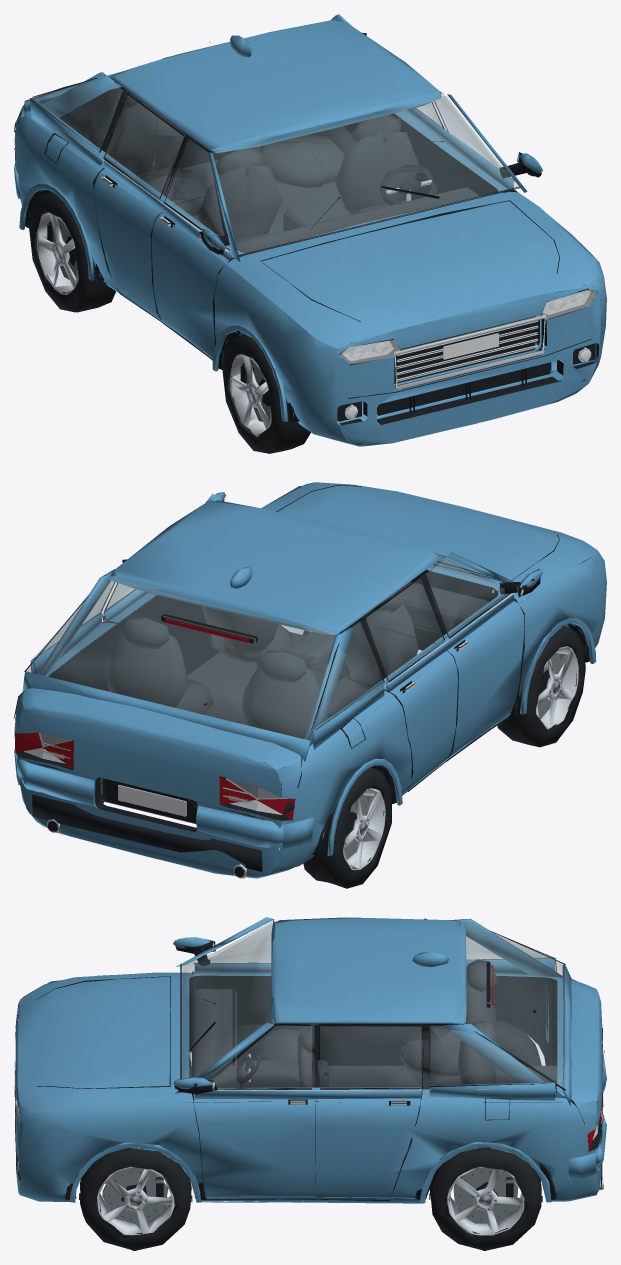
The model's file is campus-hatchback-far.glb.
3 renders of one model, top to bottom at view 1: azimuth 30°, elevation 25°; view 2: azimuth 150°, elevation 25°; view 3: azimuth 270°, elevation 25°, orthographic. The views are drawn at different scales.
Visible parts, largest first — view 1: Body:paint, Body:glass, Body:interior, Body:black, Body:chrome, Wheel0:rubber, Wheel2:rubber, Wheel2:chrome, Wheel0:chrome, Body:frontlamp, Body:white; view 2: Body:paint, Body:glass, Body:interior, Body:black, Wheel2:rubber, Wheel0:rubber, Body:chrome, Wheel2:chrome, Wheel0:chrome, Body:redlens, Body:white; view 3: Body:paint, Body:glass, Body:black, Body:interior, Wheel1:rubber, Wheel3:rubber, Wheel3:chrome, Wheel1:chrome, Wheel3:steel, Wheel1:steel, Wheel2:rubber, Body:chrome.
Boxes of the visible parts, left/top/right/bottom form: Body:paint: left=14, top=14, right=606, bottom=446; Body:glass: left=25, top=18, right=519, bottom=256; Body:interior: left=104, top=88, right=479, bottom=312; Body:black: left=14, top=32, right=598, bottom=425; Body:chrome: left=40, top=113, right=590, bottom=418; Wheel0:rubber: left=222, top=334, right=310, bottom=453; Wheel2:rubber: left=29, top=192, right=115, bottom=312; Wheel2:chrome: left=36, top=212, right=78, bottom=294; Wheel0:chrome: left=230, top=353, right=271, bottom=436; Body:frontlamp: left=339, top=289, right=596, bottom=364; Body:white: left=443, top=333, right=499, bottom=359; Body:paint: left=14, top=482, right=606, bottom=878; Body:glass: left=26, top=500, right=507, bottom=740; Body:interior: left=95, top=581, right=488, bottom=823; Body:black: left=14, top=485, right=591, bottom=877; Wheel2:rubber: left=303, top=767, right=391, bottom=888; Wheel0:rubber: left=497, top=626, right=585, bottom=747; Body:chrome: left=23, top=585, right=523, bottom=878; Wheel2:chrome: left=343, top=788, right=385, bottom=869; Wheel0:chrome: left=536, top=646, right=578, bottom=729; Body:redlens: left=15, top=731, right=294, bottom=819; Body:white: left=118, top=785, right=186, bottom=816; Body:paint: left=15, top=917, right=606, bottom=1203; Body:glass: left=182, top=921, right=564, bottom=1088; Body:black: left=15, top=918, right=604, bottom=1202; Body:interior: left=189, top=959, right=562, bottom=1181; Wheel1:rubber: left=79, top=1147, right=192, bottom=1250; Wheel3:rubber: left=429, top=1147, right=542, bottom=1250; Wheel3:chrome: left=447, top=1167, right=524, bottom=1235; Wheel1:chrome: left=97, top=1166, right=174, bottom=1235; Wheel3:steel: left=453, top=1168, right=522, bottom=1223; Wheel1:steel: left=102, top=1168, right=171, bottom=1225; Wheel2:rubber: left=494, top=1021, right=541, bottom=1066; Body:chrome: left=15, top=942, right=603, bottom=1189.
Bounding box in the file's own units: 2.04 × 1.54 × 3.56.
12 materials, 12 textured.
